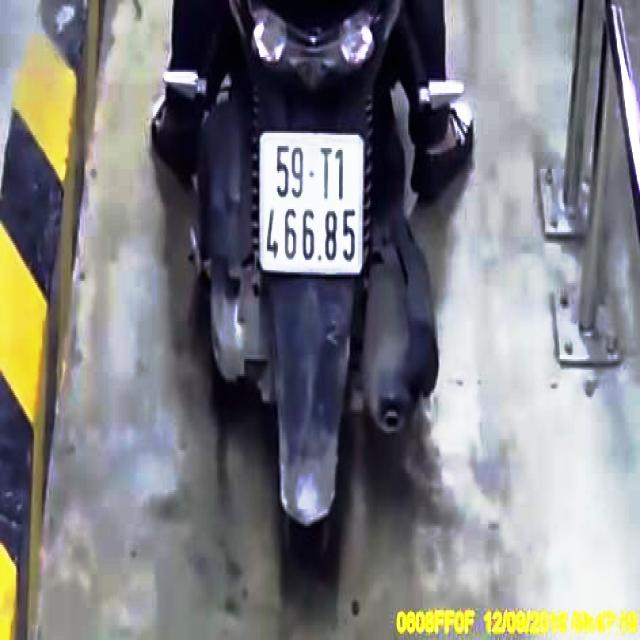license_plate: (260, 138, 366, 273)
